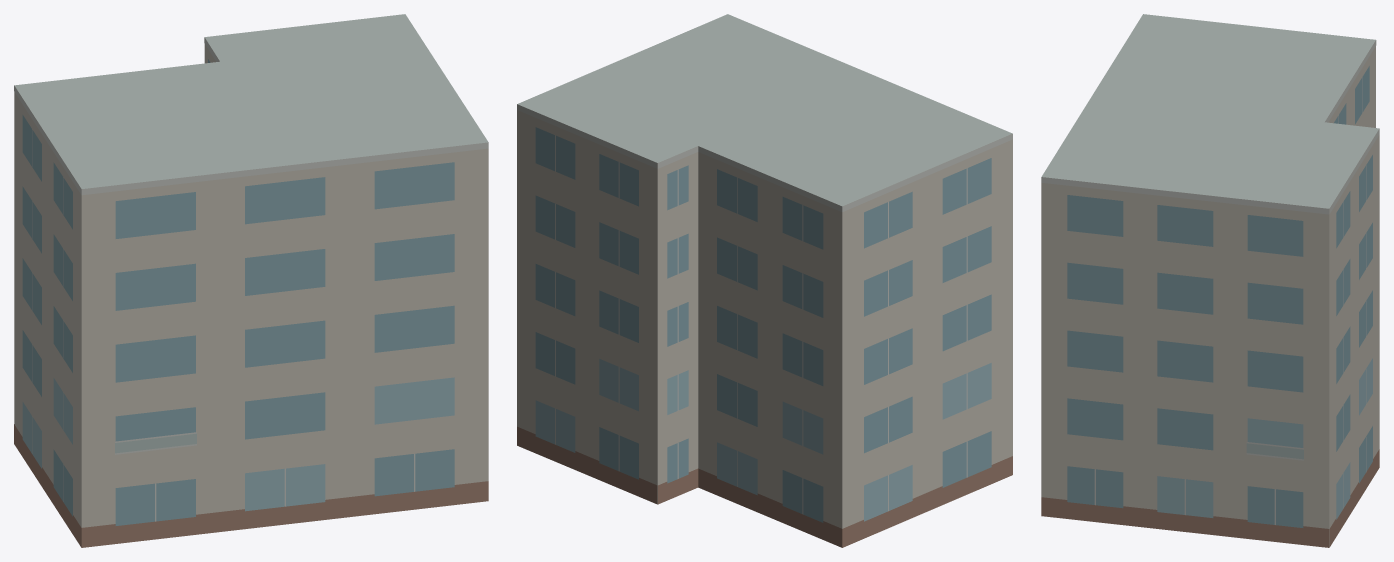
Rendered from survey-upis-32535502.glb.
The picture shows the model from 3 angles, left to right: view 1: azimuth 30°, elevation 25°; view 2: azimuth 150°, elevation 25°; view 3: azimuth 270°, elevation 25°; orthographic projection. The views are drawn at different scales.
Parts seen in each view (by area): view 1: survey-upis-32535502.tmp; view 2: survey-upis-32535502.tmp; view 3: survey-upis-32535502.tmp.
Boxes of the visible parts, <box> form: survey-upis-32535502.tmp: <box>14,14,488,547</box>; survey-upis-32535502.tmp: <box>517,14,1012,547</box>; survey-upis-32535502.tmp: <box>1041,14,1379,547</box>.
Bounding box in the file's own units: 17.63 × 14.3 × 12.94.
